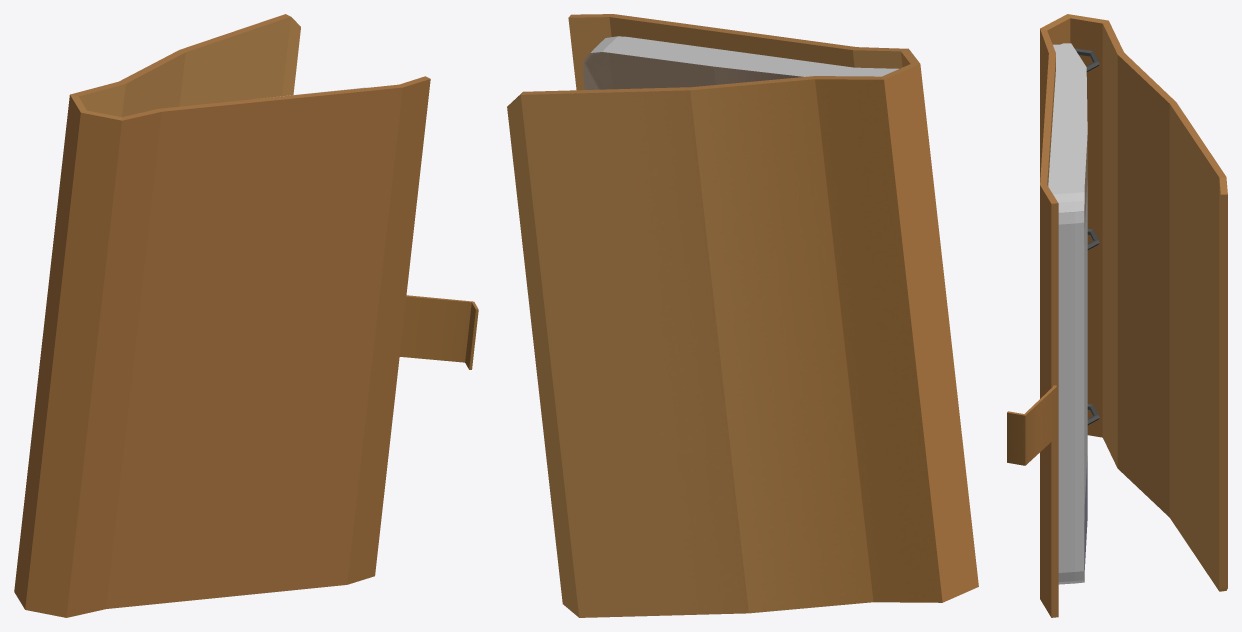
File: Up_Book.FBX
3 views of the same model, side by side, from view 1: azimuth 30°, elevation 25°; view 2: azimuth 150°, elevation 25°; view 3: azimuth 270°, elevation 25° (orthographic). The views are drawn at different scales.
Parts seen in each view (by area): view 1: Object017; view 2: Object017; view 3: Object017.
Boxes of the visible parts, left/top/right/bottom form: Object017: left=14, top=14, right=478, bottom=617; Object017: left=507, top=14, right=978, bottom=617; Object017: left=1007, top=14, right=1227, bottom=617.
Bounding box in the file's own units: 9.46 × 11.19 × 4.69.
Materials: 1 (1 with a texture image).
